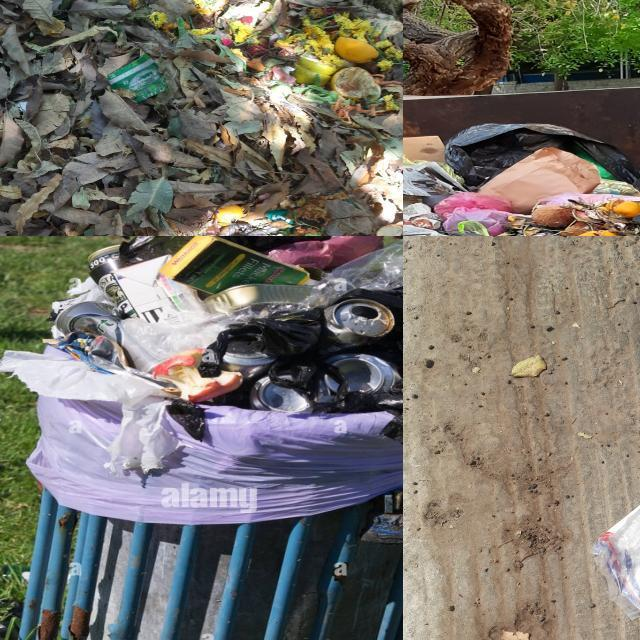Background: (403, 236, 640, 640)
Garbage: (52, 236, 403, 442), (403, 124, 640, 236)
Metal: (203, 284, 311, 315)
Plastic_Bag: (125, 239, 403, 359), (445, 123, 640, 191), (199, 310, 343, 399), (304, 238, 403, 307), (314, 379, 403, 444), (122, 312, 232, 363), (268, 236, 384, 270), (435, 192, 513, 235), (335, 286, 403, 329), (571, 143, 616, 179), (535, 192, 640, 207), (593, 179, 640, 197), (423, 191, 452, 207), (439, 164, 461, 181), (403, 155, 429, 166)
Plastic_wraper: (107, 55, 168, 102), (265, 210, 291, 222)
can: (319, 298, 395, 353), (88, 245, 136, 316), (55, 301, 122, 343), (326, 353, 400, 391), (249, 377, 311, 412), (220, 341, 275, 379), (314, 374, 340, 402)
